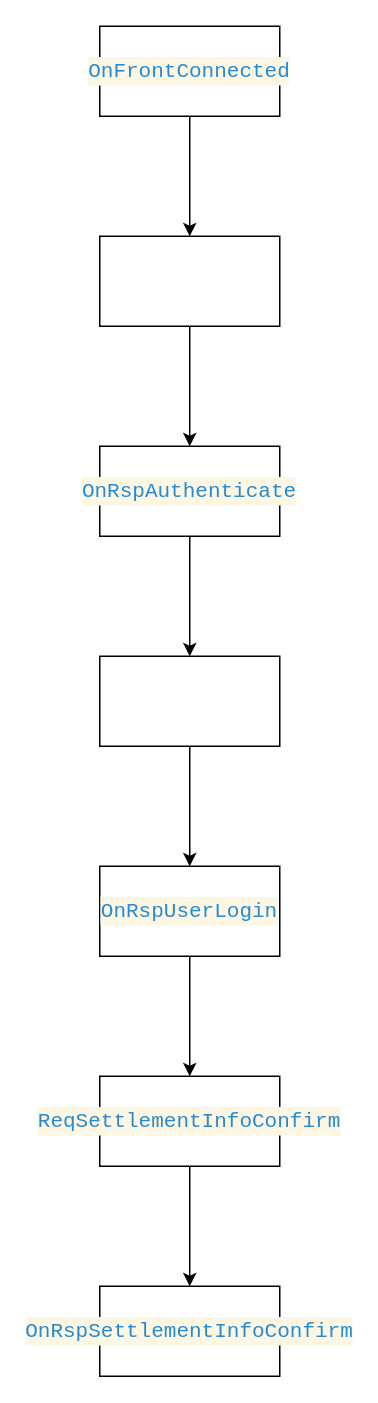
Some shapes in this 378 by 1403 pixel diagram are drawn without their labels. The shapes that lost their labels are listed below. From the top down, each one's centre as x and y in pixels, then its label:
At (189,280): "ReqAuthenticate".
At (189,700): "ReqUserLogin".
